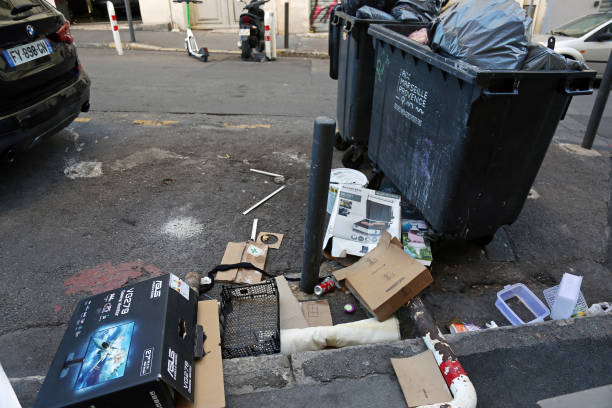General waste: (372, 0, 600, 79), (265, 312, 410, 357), (225, 152, 301, 222)
paper: (38, 270, 254, 403), (318, 155, 440, 266), (335, 232, 428, 323), (205, 220, 292, 289), (259, 266, 340, 339), (379, 342, 461, 408), (440, 311, 501, 336), (1, 361, 28, 408)
plastic: (491, 244, 612, 335), (192, 252, 285, 359)
